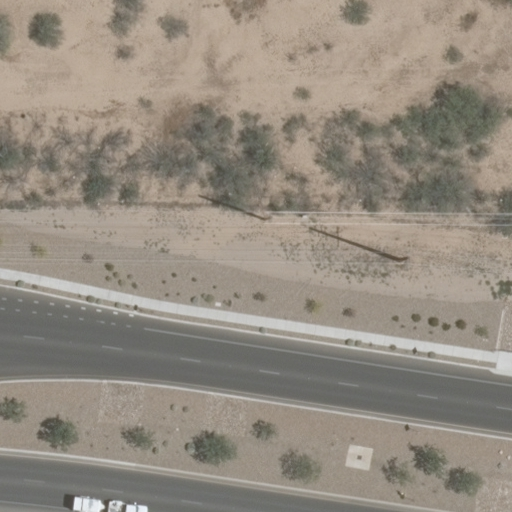DT: (390, 248, 415, 274), (256, 207, 277, 228)
